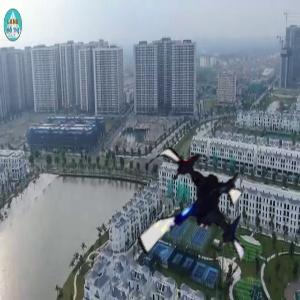drone: (121, 144, 267, 290)
